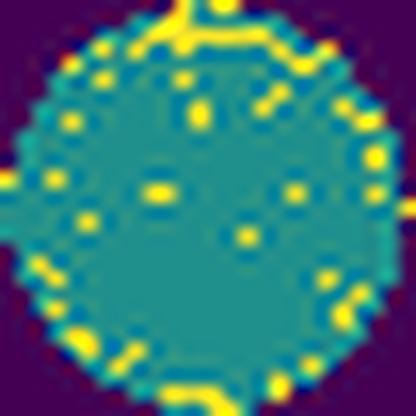Scratch: (125, 0, 342, 78)
